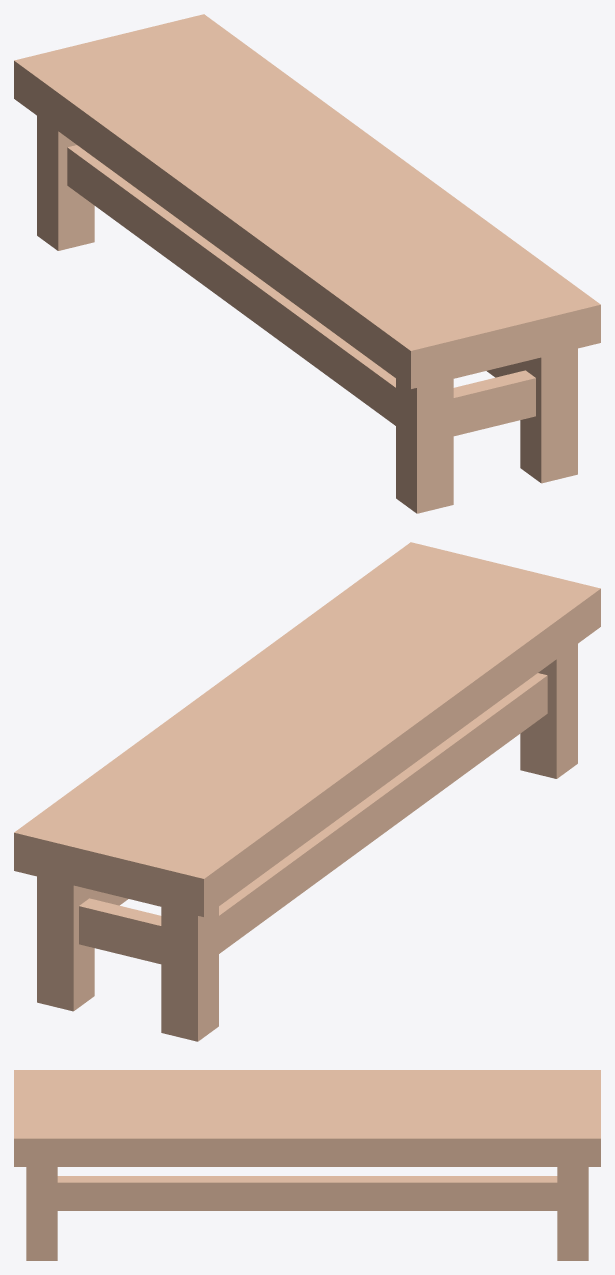
3 views of the same model, one above another, from view 1: azimuth 30°, elevation 25°; view 2: azimuth 150°, elevation 25°; view 3: azimuth 270°, elevation 25° (orthographic). The views are drawn at different scales.
Visible parts, largest first — view 1: stallBench; view 2: stallBench; view 3: stallBench.
Boxes of the visible parts, x1,y1,x2,y2 form: stallBench: (14, 14, 600, 513); stallBench: (14, 542, 600, 1041); stallBench: (14, 1070, 600, 1260).
Bounding box in the file's own units: 0.26 × 0.2255 × 0.94.
